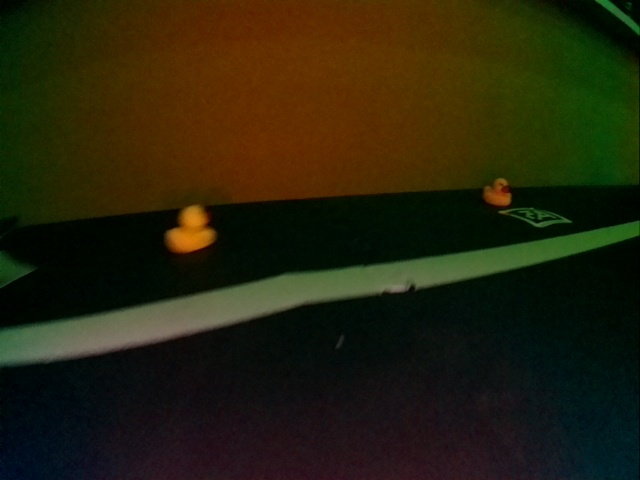Duckie: (165, 206, 216, 252), (483, 179, 510, 207)
QR code: (503, 208, 570, 227)
